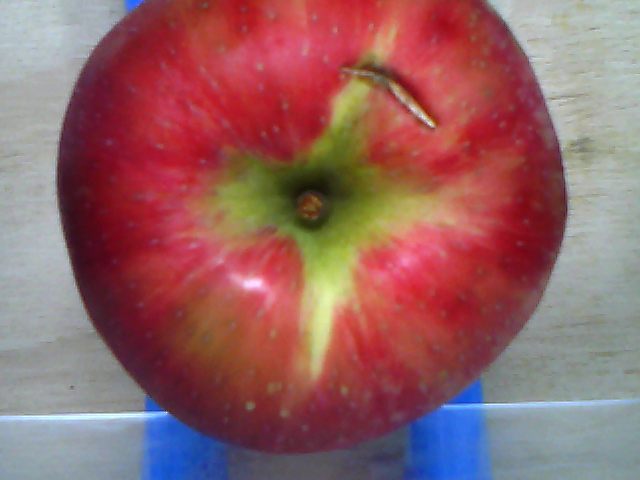stem: (293, 192, 329, 227)
